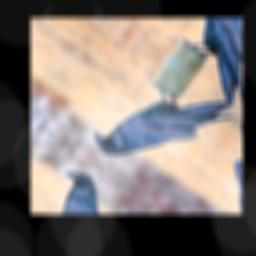Crow: (85, 51, 238, 202)
